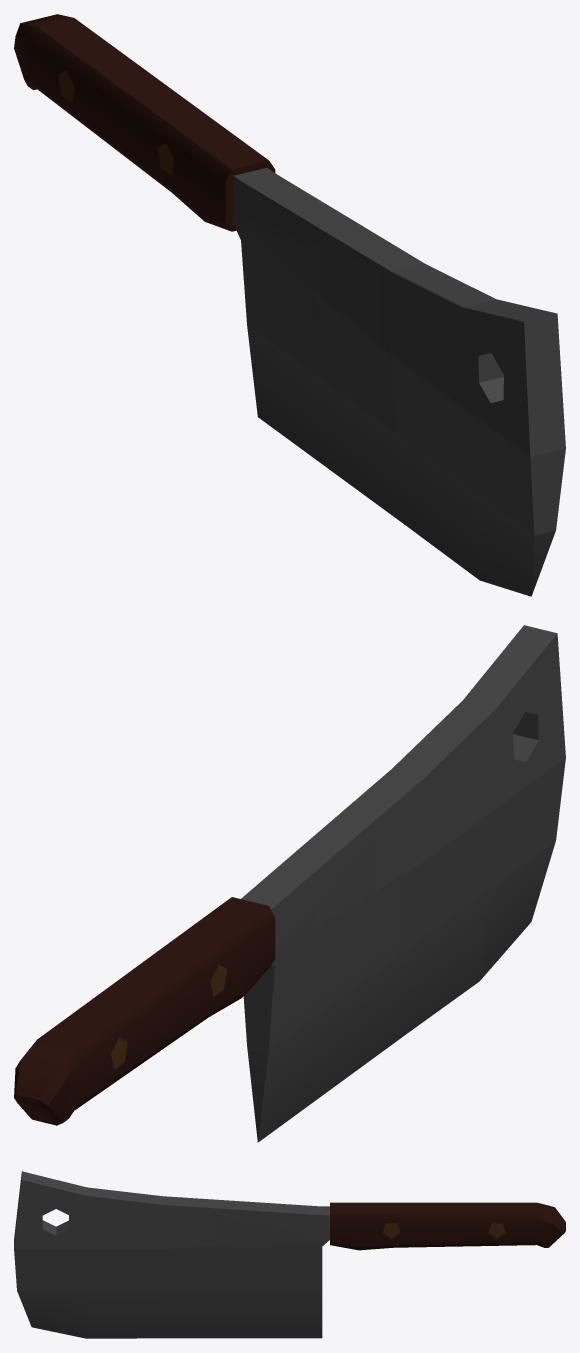
Rendered from Meatcleaver.fbx.
The picture shows the model from 3 angles, top to bottom: view 1: azimuth 30°, elevation 25°; view 2: azimuth 150°, elevation 25°; view 3: azimuth 270°, elevation 25°; orthographic projection. The views are drawn at different scales.
Visible parts, largest first — view 1: polySurface6; view 2: polySurface6; view 3: polySurface6.
Boxes of the visible parts, x1=… form: polySurface6: x1=14, y1=14, x2=565, y2=596; polySurface6: x1=14, y1=625, x2=565, y2=1142; polySurface6: x1=14, y1=1171, x2=565, y2=1338.
Size of the model in its own units: 0.0611 by 0.3346 by 1.03.
